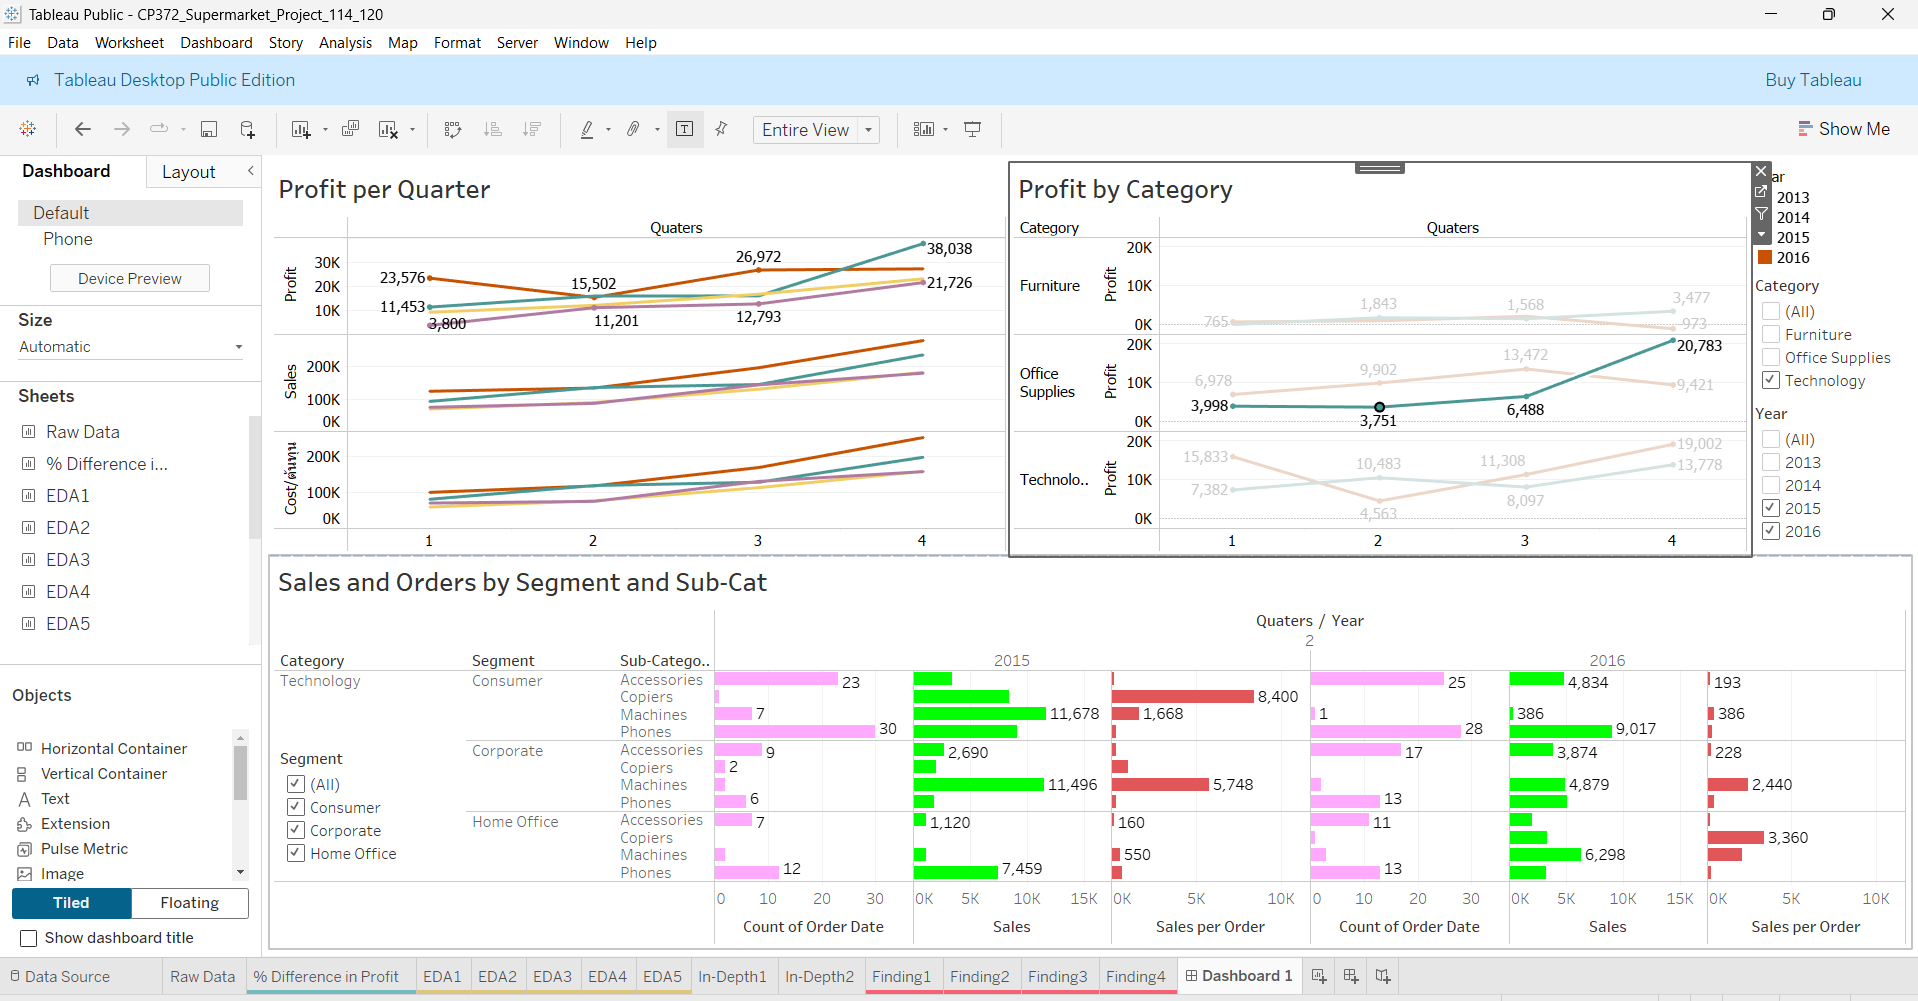

What the dashboard file says about the page in this screenshot:
{"tool":"tableau","page":{"name":"Dashboard 1","canvas":[1000,1000],"units":"permille","ordinal":0},"visuals":[{"type":"worksheet","title":"Finding1","mark":"Line","rows":["Profit","Sales","Calculation_117375076115939331"],"cols":["Calculation_117375076122894340"],"box":[5,10.6,445.1,489.4]},{"type":"worksheet","title":"Finding2","mark":"Line","rows":["Category","Profit"],"cols":["Calculation_117375076122894340"],"box":[450.1,10.6,445.1,489.4]},{"type":"legend","title":"Finding1","param":"[federated.1a7u2y40dbgxe21cbzxu01ut7w5s].[none:Calculation_117375076124123141:ok","box":[895.3,10.6,99.8,157]},{"type":"filter","title":"Finding4","param":"[federated.1a7u2y40dbgxe21cbzxu01ut7w5s].[none:Category:nk]","box":[895.3,167.5,99.8,166.2]},{"type":"filter","title":"Finding4","param":"[federated.1a7u2y40dbgxe21cbzxu01ut7w5s].[none:Calculation_117375076124123141:ok","box":[895.3,333.8,99.8,166.2]},{"type":"worksheet","title":"Finding4","mark":"Automatic","rows":["Category","Segment","Sub-Category"],"cols":["Calculation_117375076122894340","Calculation_117375076124123141","Order Date","Sales","Calculation_117375076485464071"],"box":[5,500,990,489.4]},{"type":"filter","title":"Finding4","param":"[federated.1a7u2y40dbgxe21cbzxu01ut7w5s].[none:Segment:nk]","box":[10.6,740.1,104.7,195.2]}]}

Visuals, with their boxes on the dashboard's canvas, which has no fixed pixel size, in thousandths of its width and height (x1, y1, x2, y2). These are canvas units, not pixel positions in the 1918x1001 screenshot, which may show the page scaled, cropped or inside an application window:
"Finding1" worksheet (Line marks): (x1=5, y1=11, x2=450, y2=500)
"Finding2" worksheet (Line marks): (x1=450, y1=11, x2=895, y2=500)
"Finding1" legend: (x1=895, y1=11, x2=995, y2=168)
"Finding4" filter: (x1=895, y1=168, x2=995, y2=334)
"Finding4" filter: (x1=895, y1=334, x2=995, y2=500)
"Finding4" worksheet: (x1=5, y1=500, x2=995, y2=989)
"Finding4" filter: (x1=11, y1=740, x2=115, y2=935)
